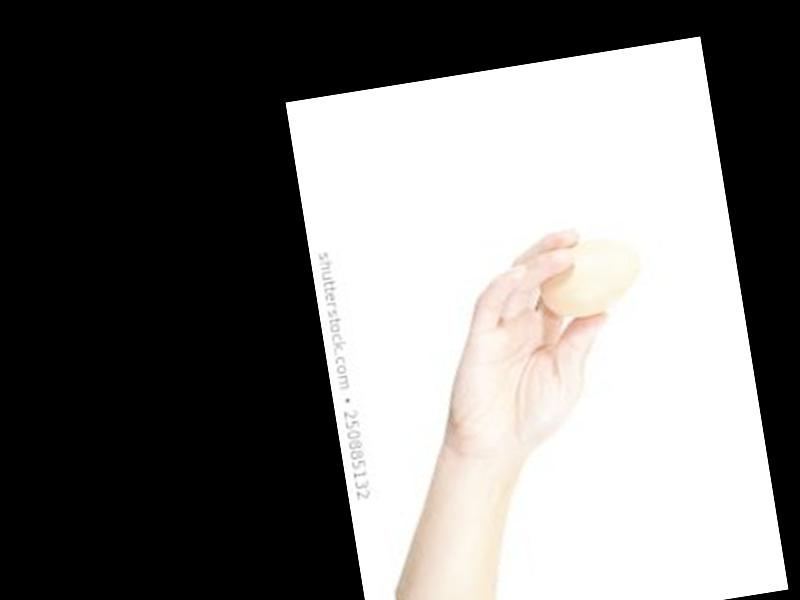Eggs: (530, 232, 648, 323)
